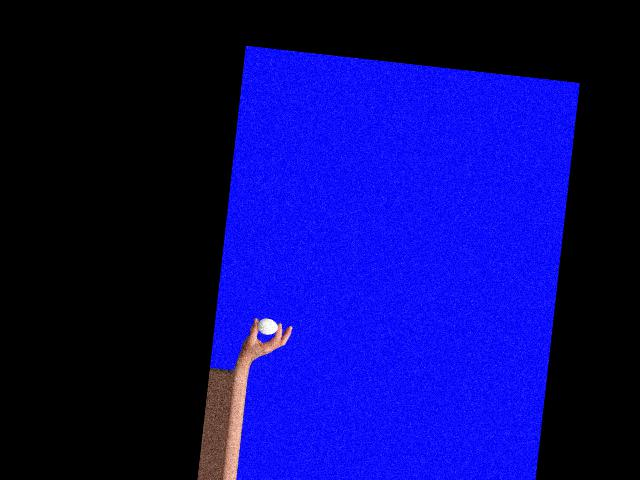egg: (256, 317, 278, 335)
